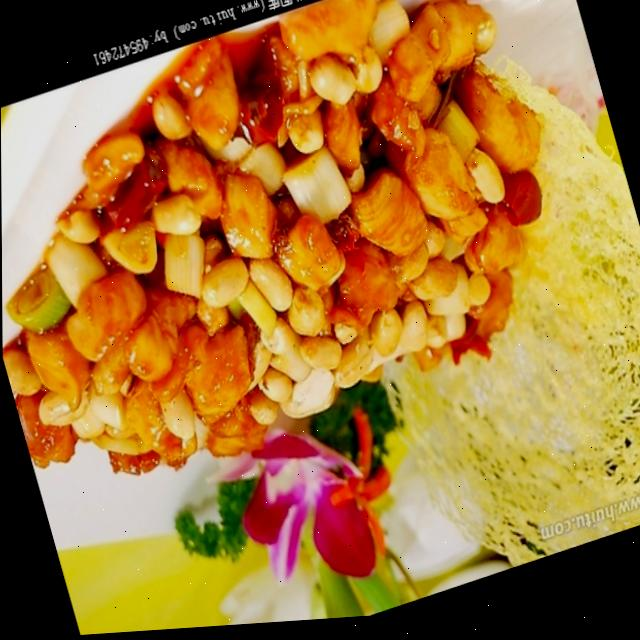鸡肉料理 含炸鸡: (0, 0, 637, 564)
